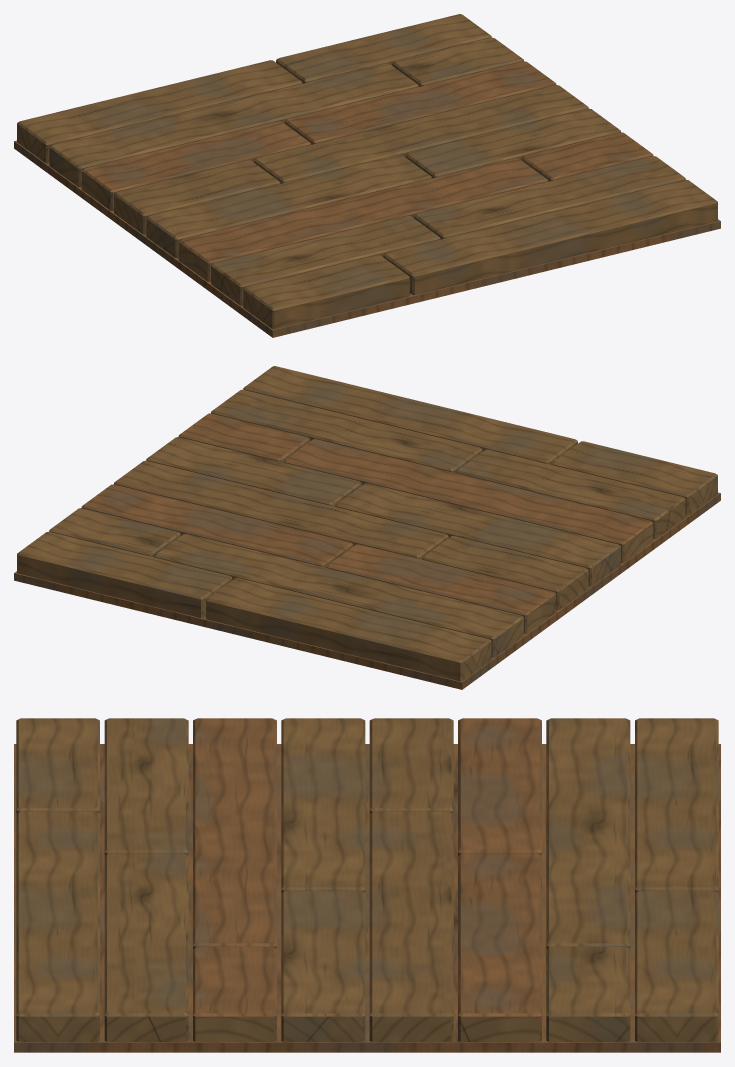
Rendered from b01_floor_b.fbx.
3 views of the same model, one above another, from view 1: azimuth 30°, elevation 25°; view 2: azimuth 150°, elevation 25°; view 3: azimuth 270°, elevation 25° (orthographic). The views are drawn at different scales.
Parts seen in each view (by area): view 1: b01_floor_b; view 2: b01_floor_b; view 3: b01_floor_b.
Part boxes in pixels (<box>): b01_floor_b: <box>14,14,720,337</box>; b01_floor_b: <box>14,366,720,689</box>; b01_floor_b: <box>14,718,720,1052</box>.
Bounding box in the file's own units: 25600 × 25600 × 1500.
